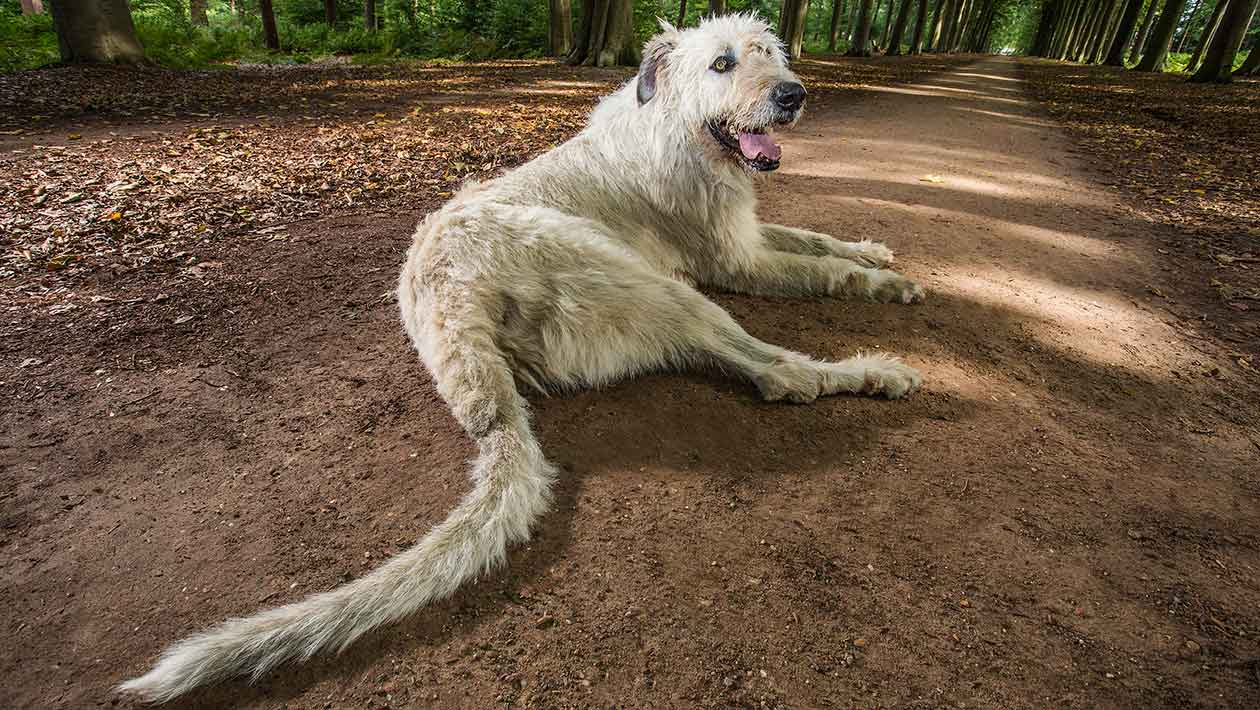dog: (139, 13, 928, 710)
